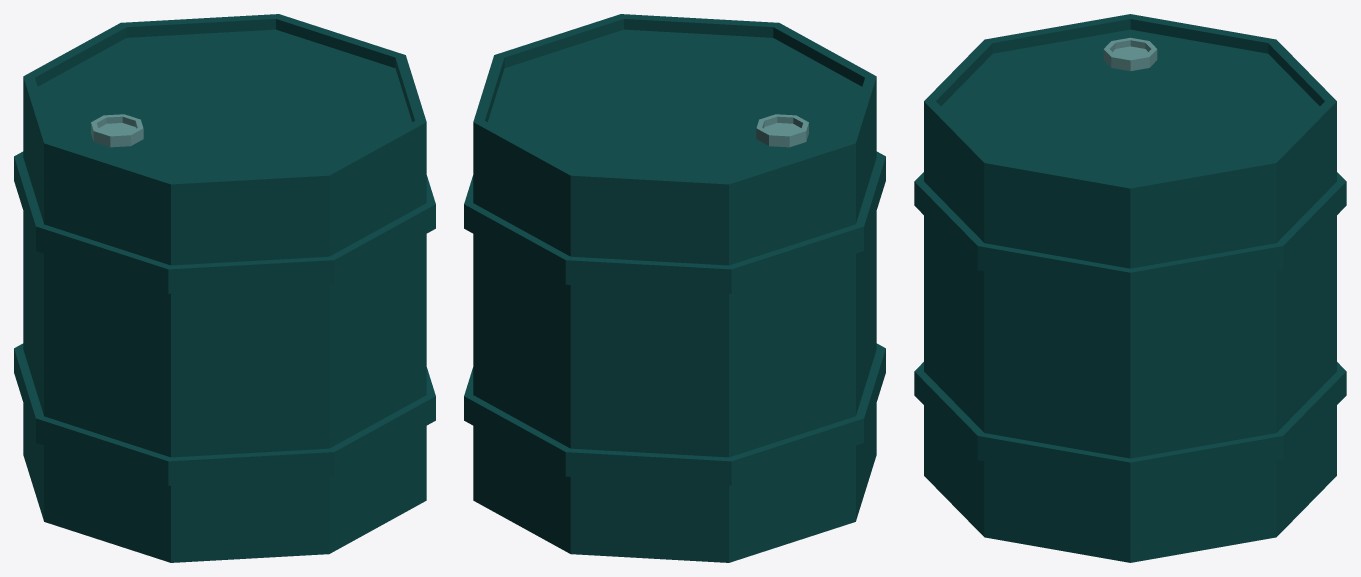
File: Barell.fbx
3 views of the same model, side by side, from view 1: azimuth 30°, elevation 25°; view 2: azimuth 150°, elevation 25°; view 3: azimuth 270°, elevation 25° (orthographic).
Visible parts, largest first — view 1: Cylinder; view 2: Cylinder; view 3: Cylinder.
Boxes of the visible parts, x1,y1,x2,y2 form: Cylinder: [14, 14, 435, 562]; Cylinder: [464, 14, 885, 562]; Cylinder: [914, 14, 1346, 562].
Bounding box in the file's own units: 105 × 100 × 105.
Materials: 1 (1 with a texture image).
